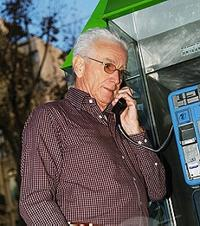person: (20, 27, 166, 225)
